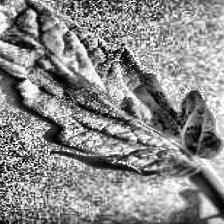leaf mold: (0, 0, 221, 174)
